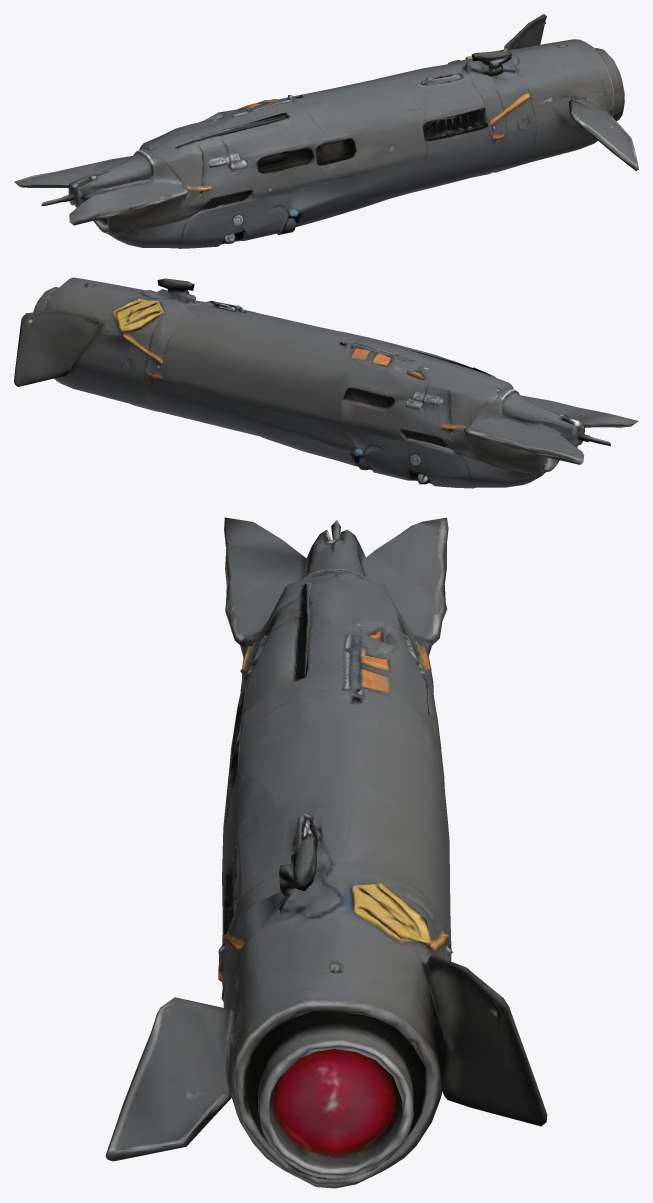
File: seeker.glb
3 renders of one model, top to bottom at view 1: azimuth 30°, elevation 25°; view 2: azimuth 150°, elevation 25°; view 3: azimuth 270°, elevation 25°, orthographic. The views are drawn at different scales.
Parts seen in each view (by area): view 1: tripo_node_1fea6f15-da3e-4675-8ba2-bc351844c434; view 2: tripo_node_1fea6f15-da3e-4675-8ba2-bc351844c434; view 3: tripo_node_1fea6f15-da3e-4675-8ba2-bc351844c434.
Boxes of the visible parts, x1,y1,x2,y2 form: tripo_node_1fea6f15-da3e-4675-8ba2-bc351844c434: [14, 14, 638, 248]; tripo_node_1fea6f15-da3e-4675-8ba2-bc351844c434: [14, 277, 638, 488]; tripo_node_1fea6f15-da3e-4675-8ba2-bc351844c434: [105, 517, 547, 1188].
Size of the model in its own units: 1 by 0.2246 by 0.3389.
Materials: 1 (1 with a texture image).
